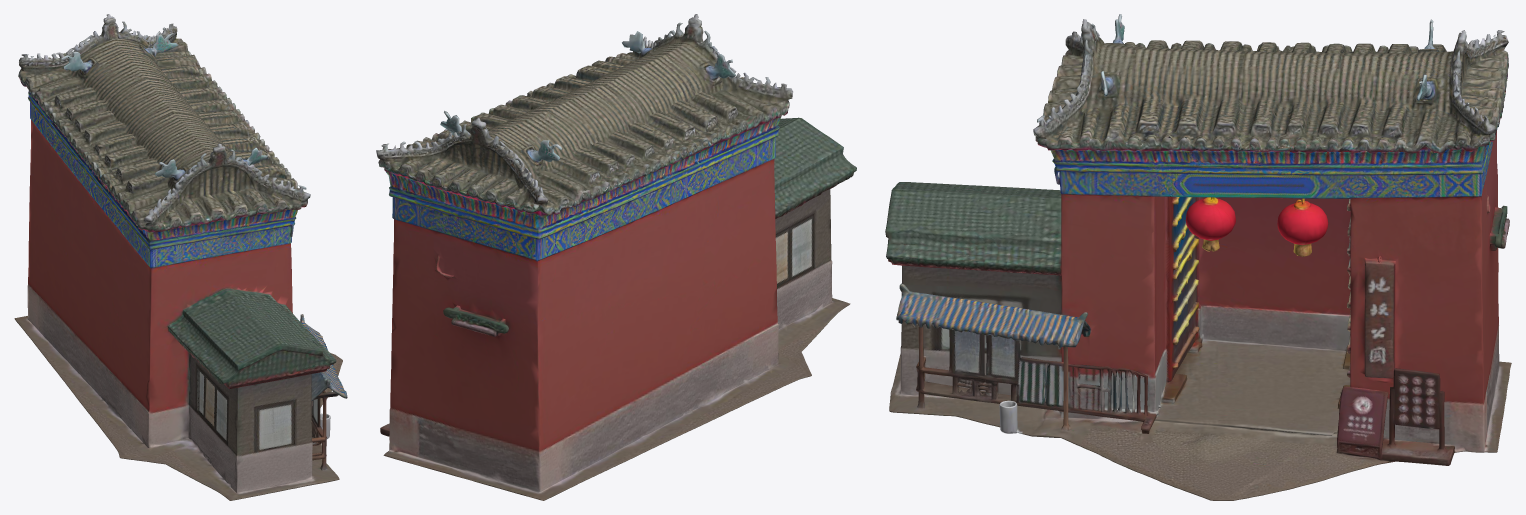
The model's file is detail.glb.
3 renders of one model, left to right at view 1: azimuth 30°, elevation 25°; view 2: azimuth 150°, elevation 25°; view 3: azimuth 270°, elevation 25°, orthographic. The views are drawn at different scales.
Visible parts, largest first — view 1: ditan/tripo_node_ea848d5c-6364-4c51-b776-0ca3f63c732a; view 2: ditan/tripo_node_ea848d5c-6364-4c51-b776-0ca3f63c732a; view 3: ditan/tripo_node_ea848d5c-6364-4c51-b776-0ca3f63c732a.
Boxes of the visible parts, left/top/right/bottom form: ditan/tripo_node_ea848d5c-6364-4c51-b776-0ca3f63c732a: left=14, top=14, right=347, bottom=500; ditan/tripo_node_ea848d5c-6364-4c51-b776-0ca3f63c732a: left=376, top=14, right=856, bottom=500; ditan/tripo_node_ea848d5c-6364-4c51-b776-0ca3f63c732a: left=885, top=14, right=1511, bottom=500.
Size of the model in its own units: 0.3062 by 0.3278 by 0.48.
1 material, 1 textured.
